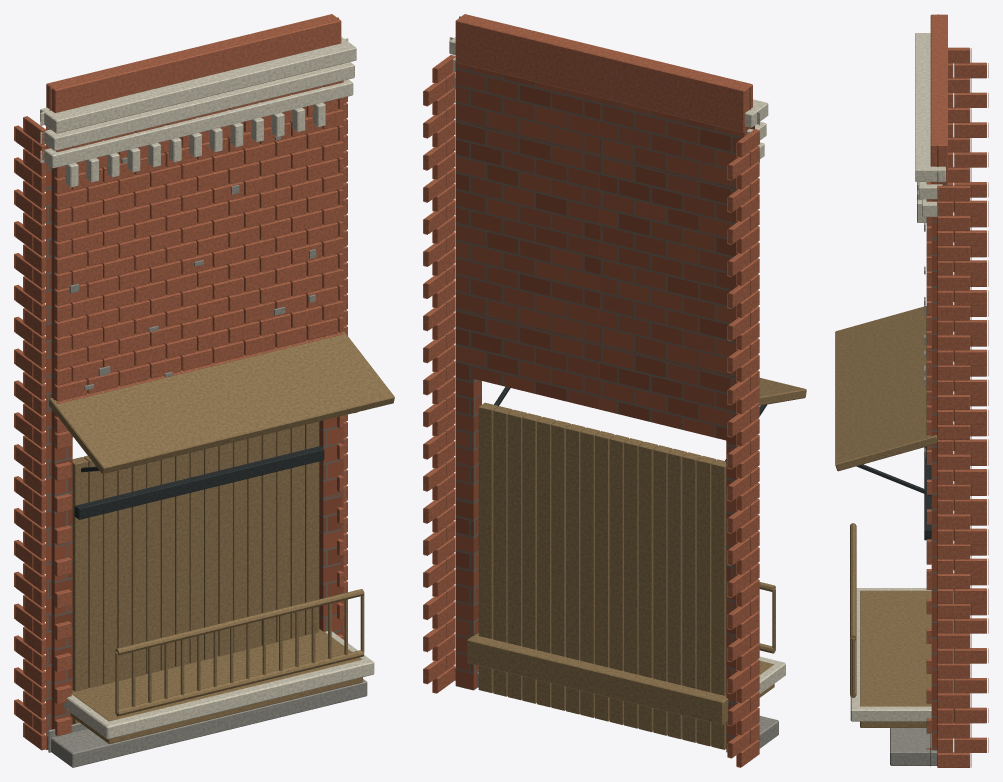
Rendered from WHSE23_lod0.glb.
The picture shows the model from 3 angles, left to right: view 1: azimuth 30°, elevation 25°; view 2: azimuth 150°, elevation 25°; view 3: azimuth 270°, elevation 25°; orthographic projection. The views are drawn at different scales.
Visible parts, largest first — view 1: WHSE23_FRONT_LOD0; view 2: WHSE23_FRONT_LOD0; view 3: WHSE23_FRONT_LOD0.
Part boxes in pixels (left/top/right/bottom): WHSE23_FRONT_LOD0: left=14, top=14, right=394, bottom=767; WHSE23_FRONT_LOD0: left=423, top=14, right=806, bottom=767; WHSE23_FRONT_LOD0: left=835, top=14, right=988, bottom=767.
Size of the model in its own units: 3.44 by 7.05 by 1.59.
Materials: 9 (9 with a texture image).
